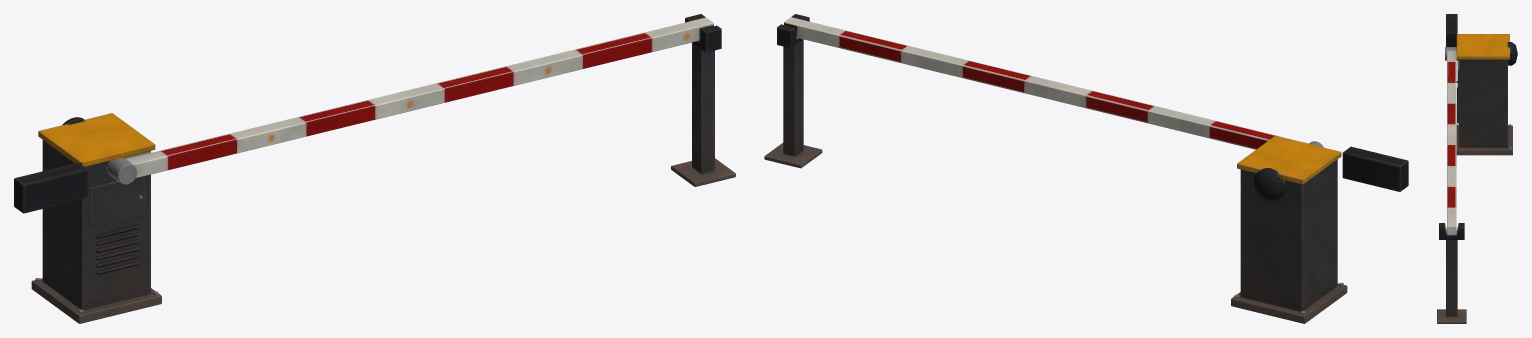
Rendered from boom_barrier.glb.
The picture shows the model from 3 angles, left to right: view 1: azimuth 30°, elevation 25°; view 2: azimuth 150°, elevation 25°; view 3: azimuth 270°, elevation 25°; orthographic projection. The views are drawn at different scales.
Parts seen in each view (by area): view 1: boom_barrier; view 2: boom_barrier; view 3: boom_barrier.
Boxes of the visible parts, left/top/right/bottom form: boom_barrier: left=14, top=14, right=735, bottom=323; boom_barrier: left=764, top=14, right=1408, bottom=323; boom_barrier: left=1437, top=14, right=1517, bottom=323.
Size of the model in its own units: 5.1 by 1.12 by 0.82.
Materials: 1 (1 with a texture image).
